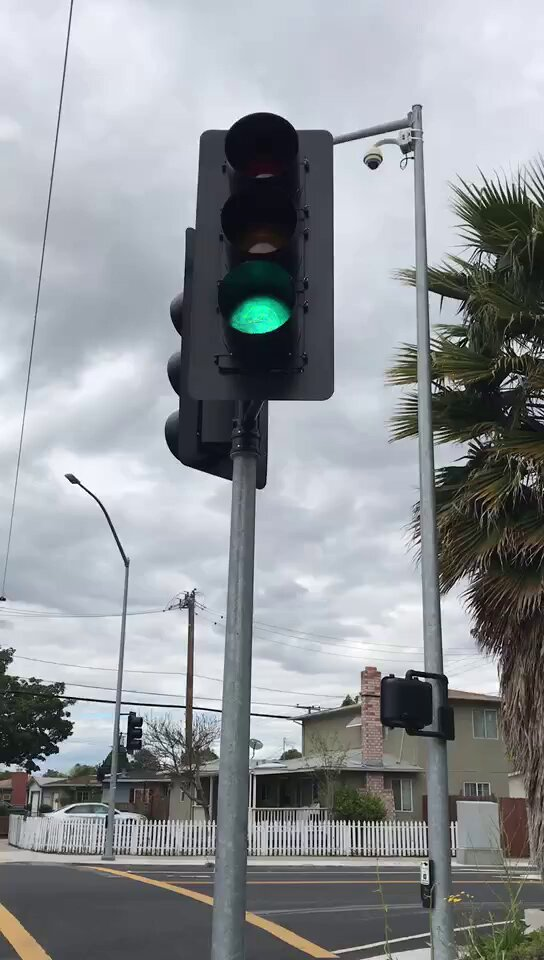green_light: (207, 130, 332, 398)
